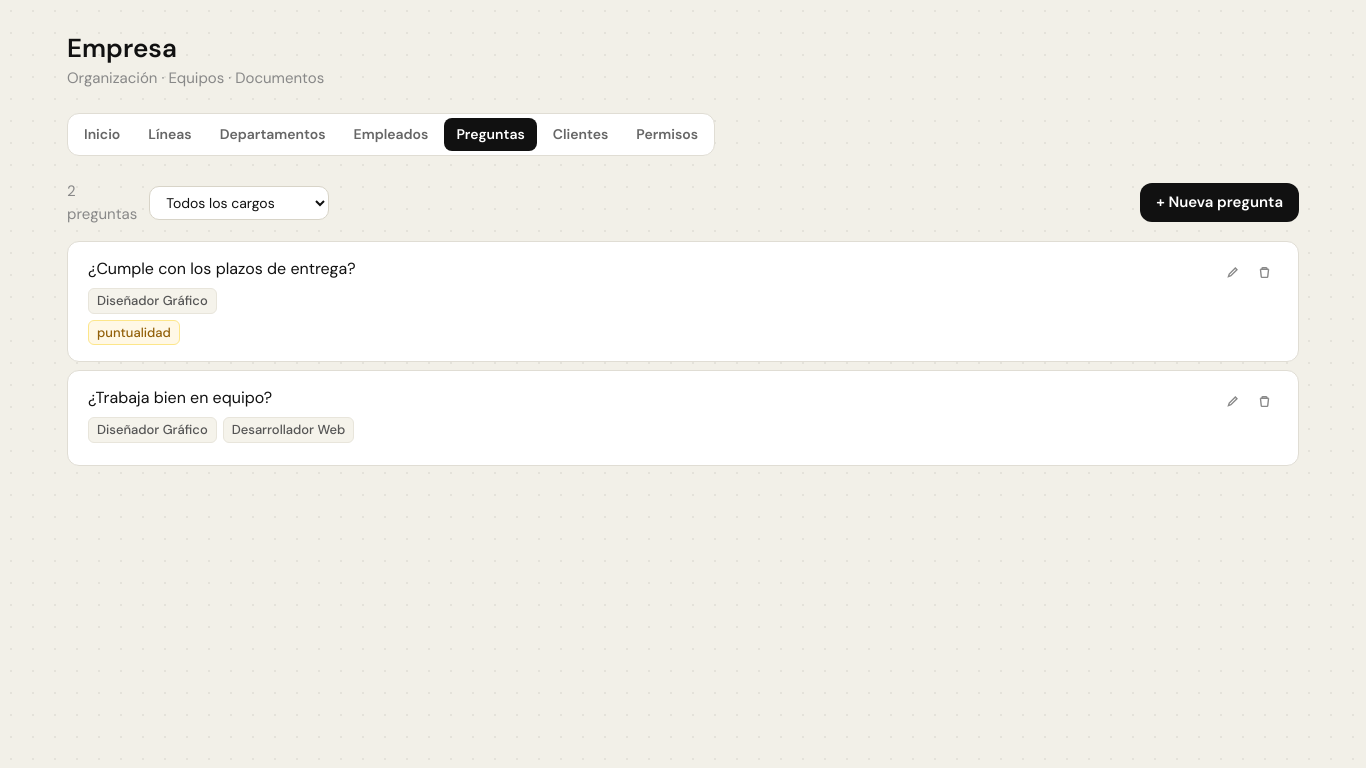
Scenario: QuestionsView › el botón "+ Nueva pregunta" abre el modal
Expected: the text "¿Cumple con los plazos de entrega?" is shown, [88,258,356,279]
Click the button "+ Nueva pregunta": (1220, 203) [1140,183,1299,222]
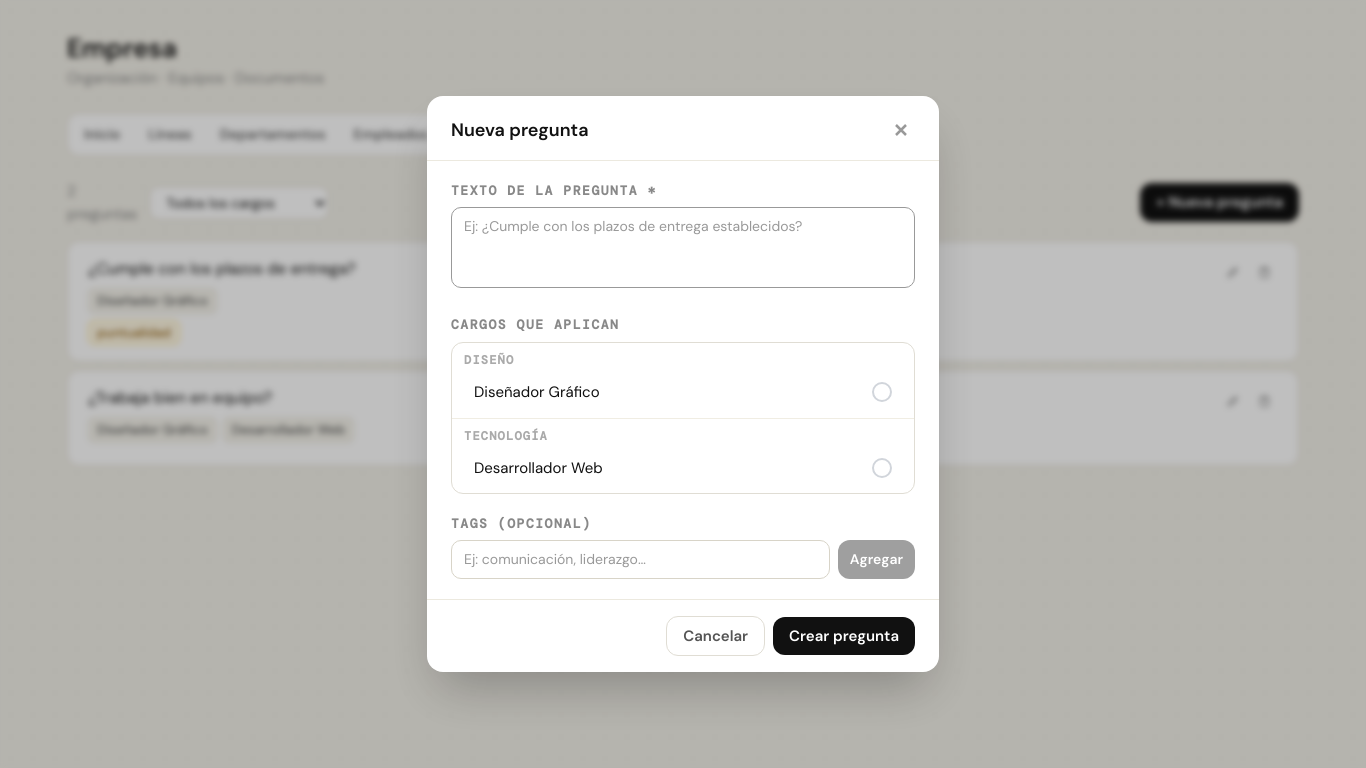
Now the heading "Nueva pregunta" is shown, box [451,116,588,144]
Now the text box with placeholder "Ej: ¿Cumple con los plazos de entrega establecidos?" is shown, box [451,206,915,288]
